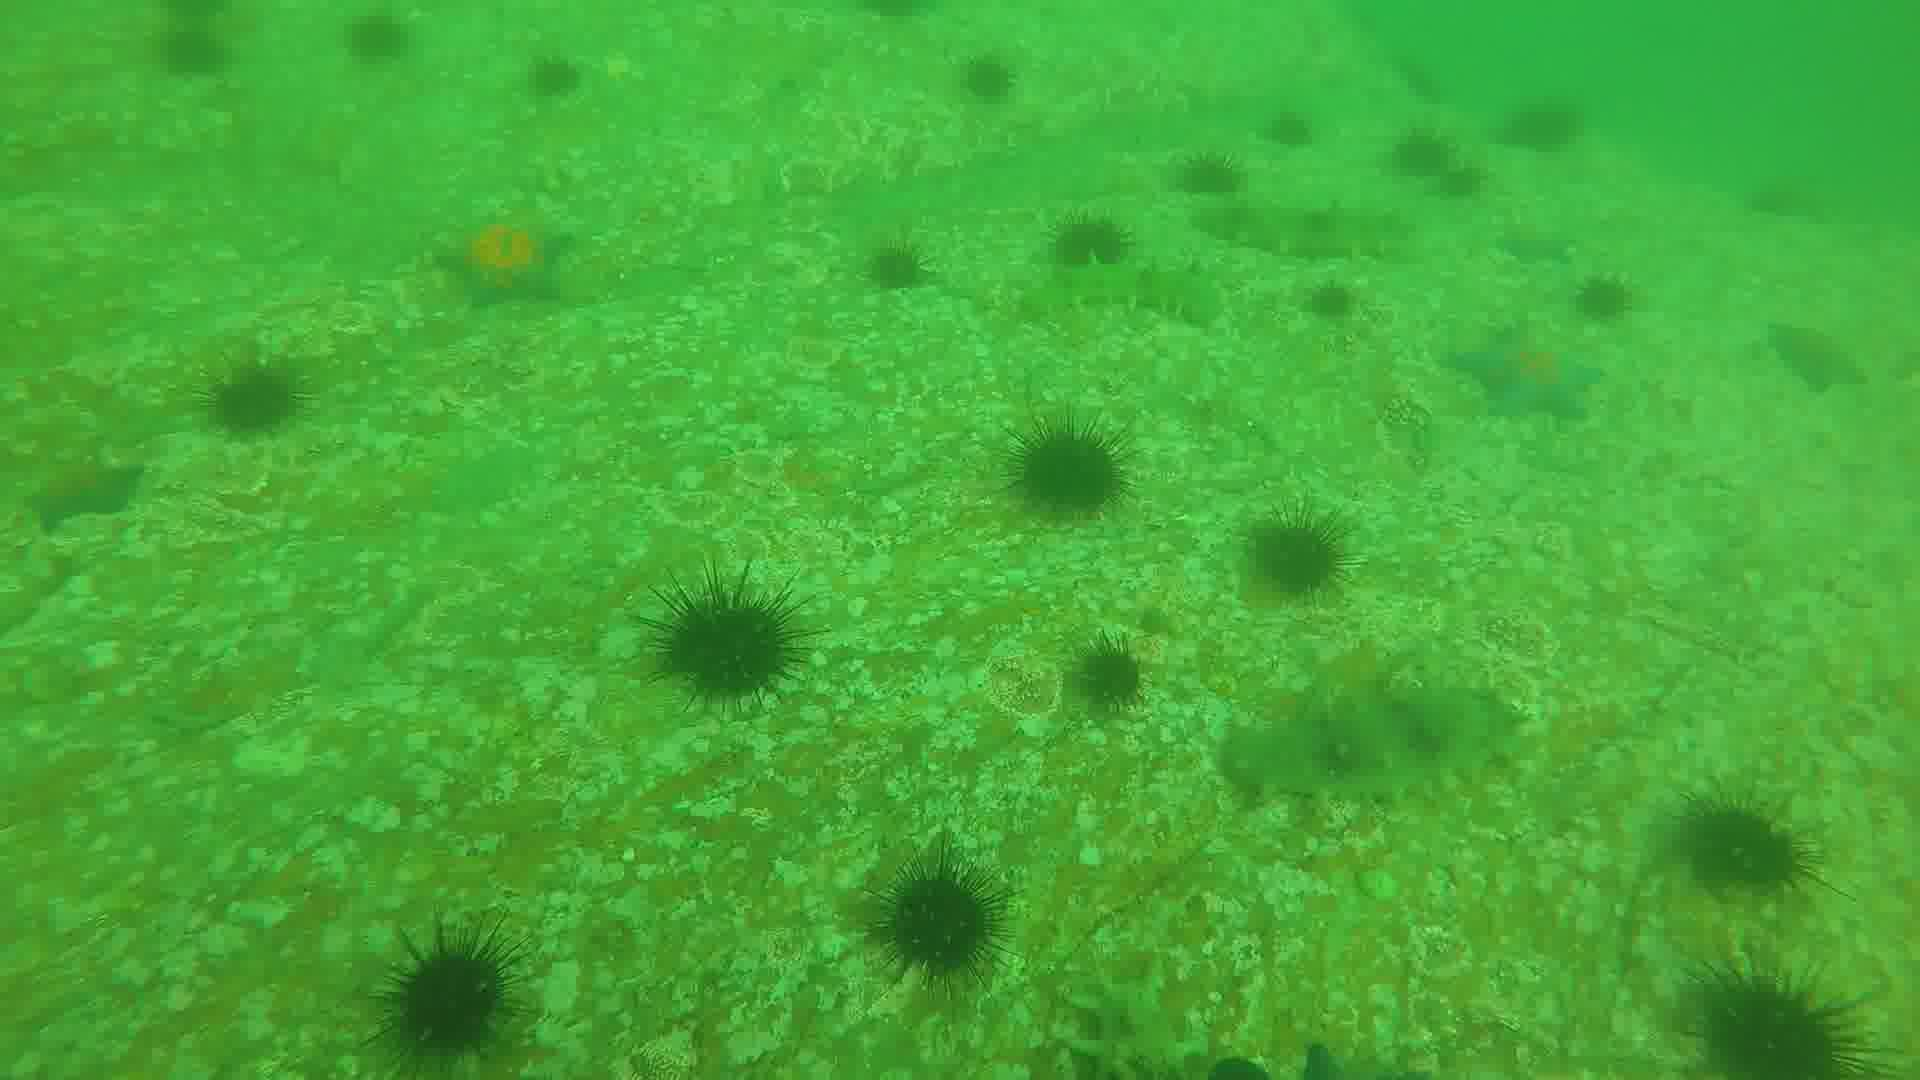echinus: (1685, 968, 1880, 1080), (375, 942, 530, 1067), (653, 582, 803, 705), (868, 861, 1011, 985), (1677, 790, 1820, 909), (1007, 423, 1130, 521), (1251, 506, 1350, 596), (156, 1, 252, 82), (1491, 88, 1597, 157), (204, 361, 307, 431), (1076, 632, 1153, 713), (1043, 214, 1142, 272), (1389, 124, 1458, 193), (348, 8, 421, 74), (1174, 152, 1257, 208), (869, 243, 942, 301), (1298, 274, 1362, 328), (530, 49, 589, 107), (1575, 277, 1640, 328), (957, 55, 1022, 107), (1427, 154, 1491, 203), (1391, 49, 1439, 105), (1251, 109, 1316, 149)
holothurian: (1222, 679, 1535, 800), (1065, 967, 1199, 1080), (1184, 203, 1429, 258), (1007, 262, 1224, 324)
starfish: (1449, 324, 1607, 425), (426, 218, 575, 316), (21, 462, 145, 539), (1762, 319, 1869, 396), (1495, 224, 1582, 266)
